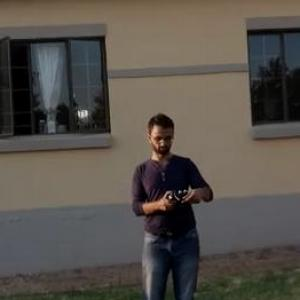follow: (123, 106, 218, 299)
